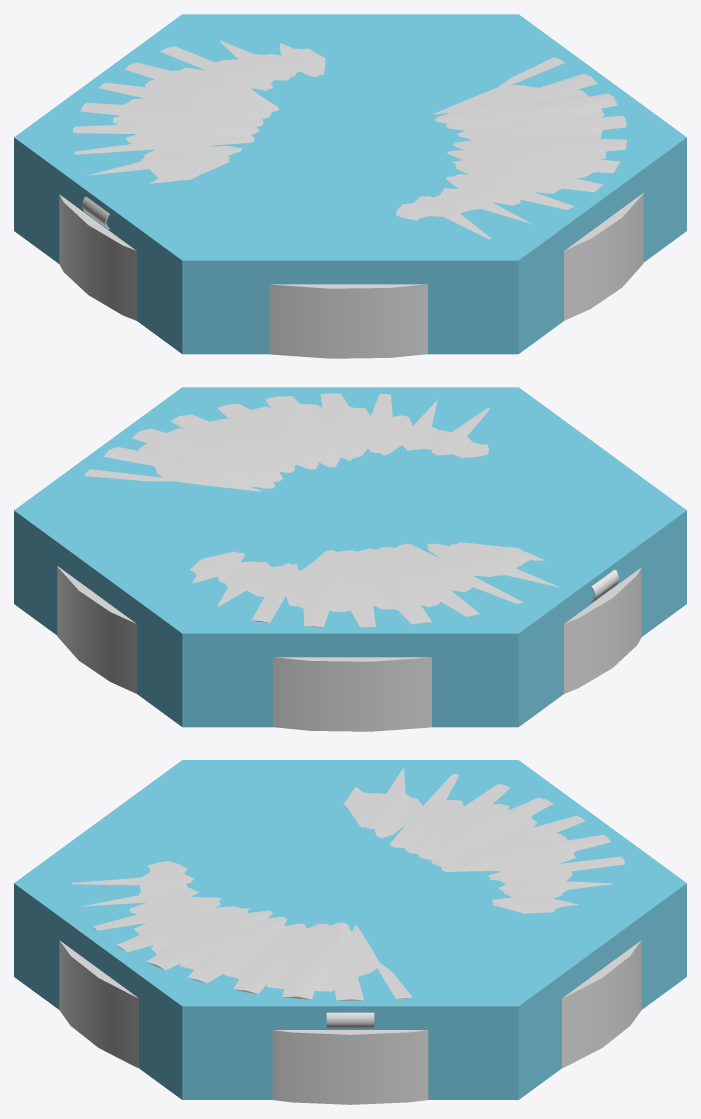
The model's file is PressurePlate_02.fbx.
The picture shows the model from 3 angles, top to bottom: view 1: azimuth 30°, elevation 25°; view 2: azimuth 150°, elevation 25°; view 3: azimuth 270°, elevation 25°; orthographic projection.
Visible parts, largest first — view 1: UCL_IED_PressurePlate_02, IED_PressurePlate_02_LOD0; view 2: UCL_IED_PressurePlate_02, IED_PressurePlate_02_LOD0; view 3: UCL_IED_PressurePlate_02, IED_PressurePlate_02_LOD0.
Boxes of the visible parts, box(x1,y1,x2,y2) form: UCL_IED_PressurePlate_02: box(14, 14, 686, 354); IED_PressurePlate_02_LOD0: box(59, 40, 643, 358); UCL_IED_PressurePlate_02: box(14, 387, 686, 727); IED_PressurePlate_02_LOD0: box(57, 393, 641, 731); UCL_IED_PressurePlate_02: box(14, 760, 686, 1099); IED_PressurePlate_02_LOD0: box(59, 768, 641, 1104).
Bounding box in the file's own units: 16.32 × 2.85 × 18.13.
